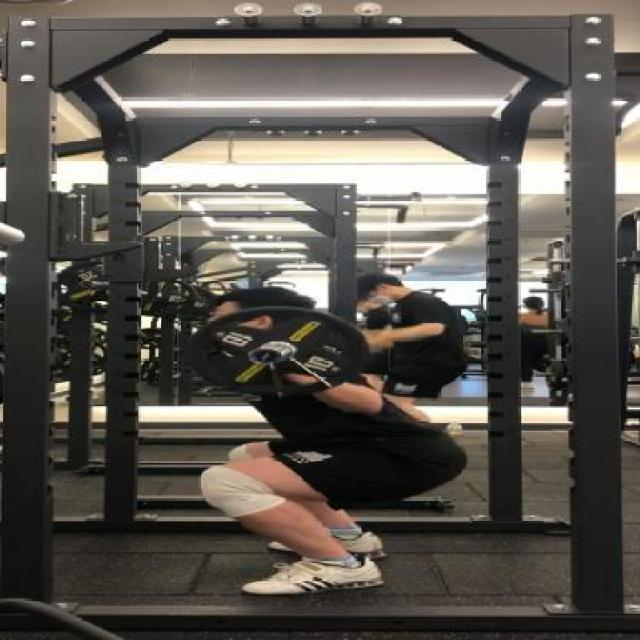barbell: (186, 304, 373, 408)
